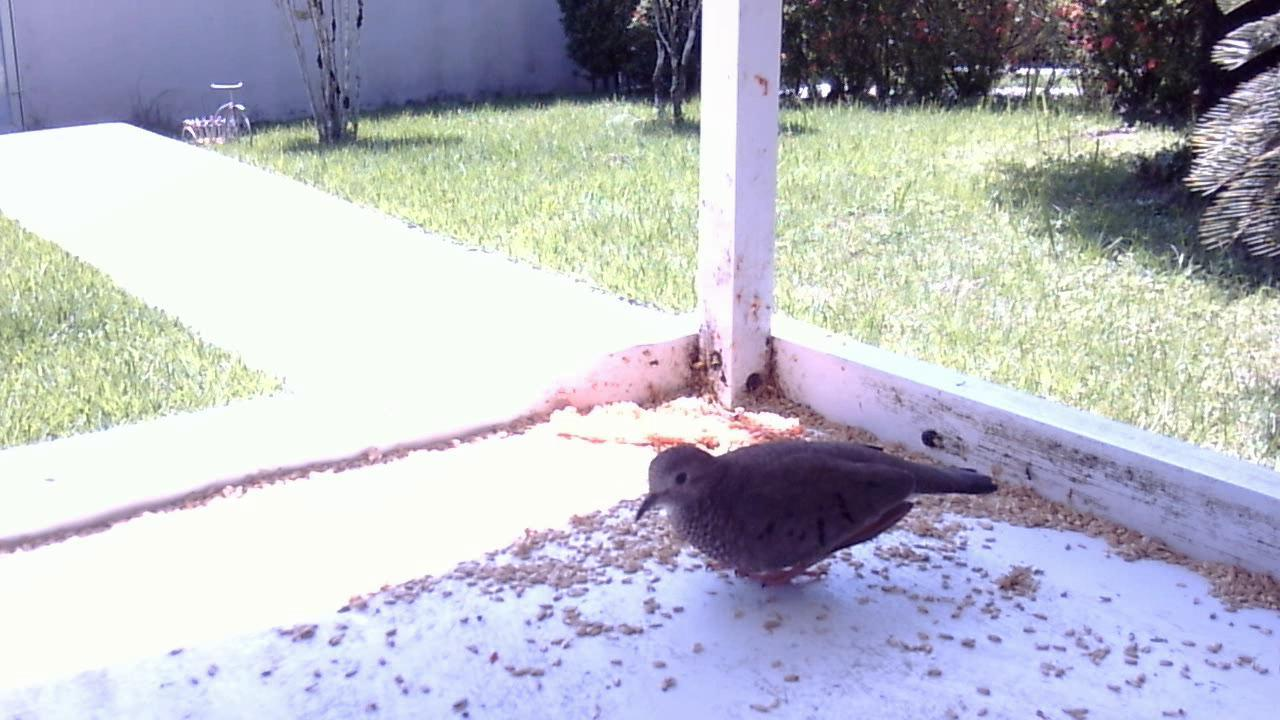rolinha: (617, 420, 1004, 606)
